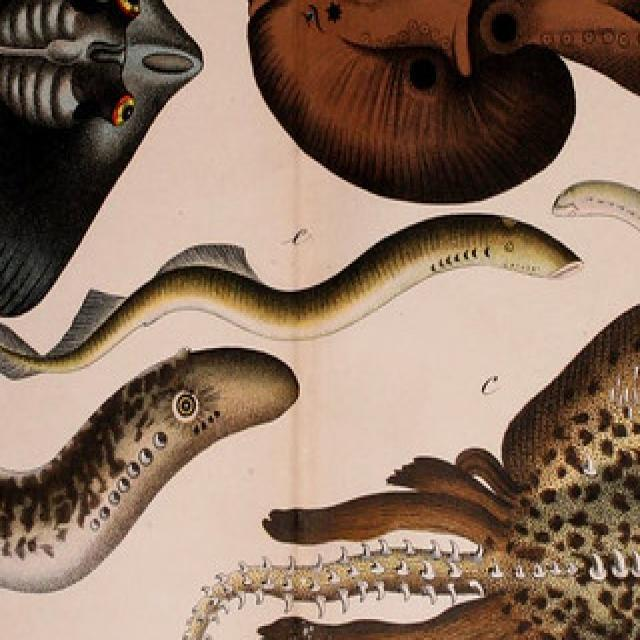Snake: (180, 296, 640, 640), (0, 210, 582, 381), (0, 341, 300, 640), (244, 0, 640, 206), (0, 0, 204, 381), (550, 175, 640, 428)
